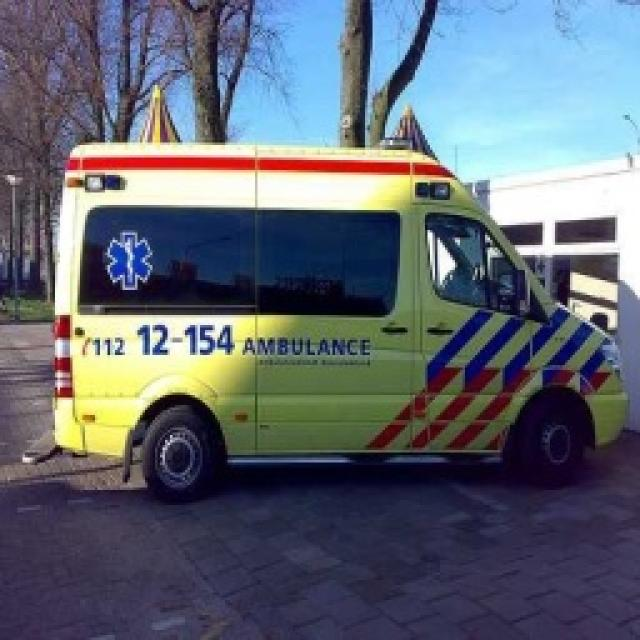ambulance: (50, 2, 628, 500)
